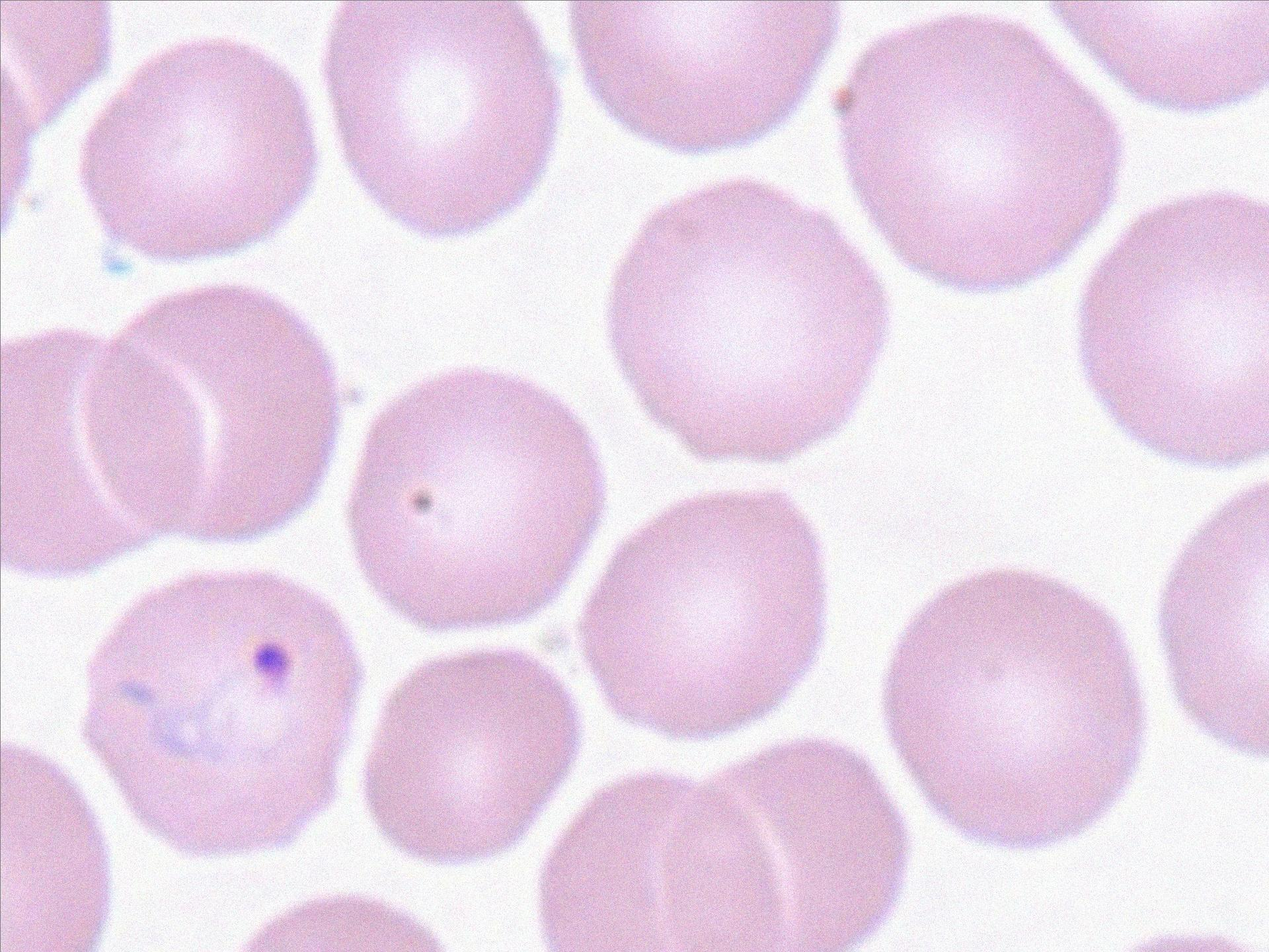Infected: (79, 567, 363, 856)
Uninfected: (608, 177, 889, 461), (888, 567, 1147, 852), (842, 16, 1112, 286), (84, 285, 341, 537), (355, 367, 601, 630), (586, 488, 833, 740), (319, 0, 558, 238), (82, 36, 322, 262), (0, 331, 212, 581), (665, 732, 905, 952), (1080, 195, 1269, 470), (542, 774, 796, 952), (364, 653, 576, 861), (571, 0, 831, 154)
